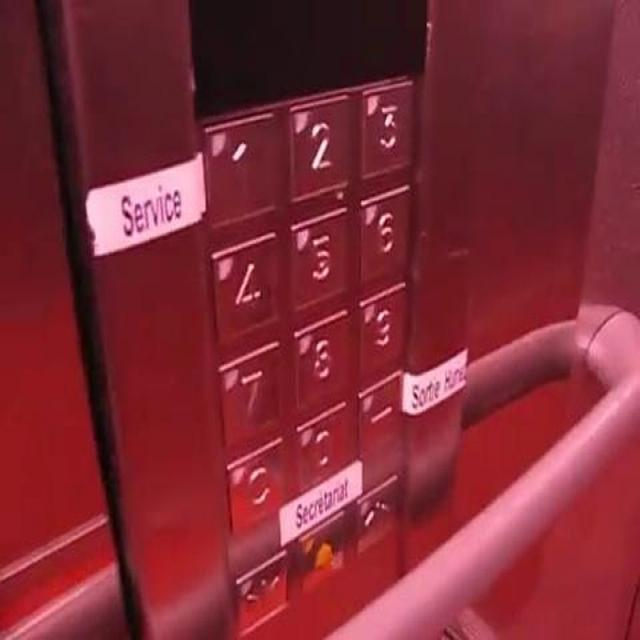-: (355, 372, 406, 455)
0: (297, 400, 350, 493)
1: (203, 113, 279, 228)
2: (287, 96, 350, 199)
3: (357, 79, 413, 180)
4: (208, 235, 281, 345)
5: (286, 203, 348, 316)
6: (355, 184, 407, 295)
7: (219, 341, 280, 459)
8: (293, 311, 350, 416)
9: (355, 280, 405, 392)
C: (221, 439, 287, 532)
alarm: (293, 511, 347, 597)
close: (235, 547, 289, 633)
open: (352, 476, 401, 555)
